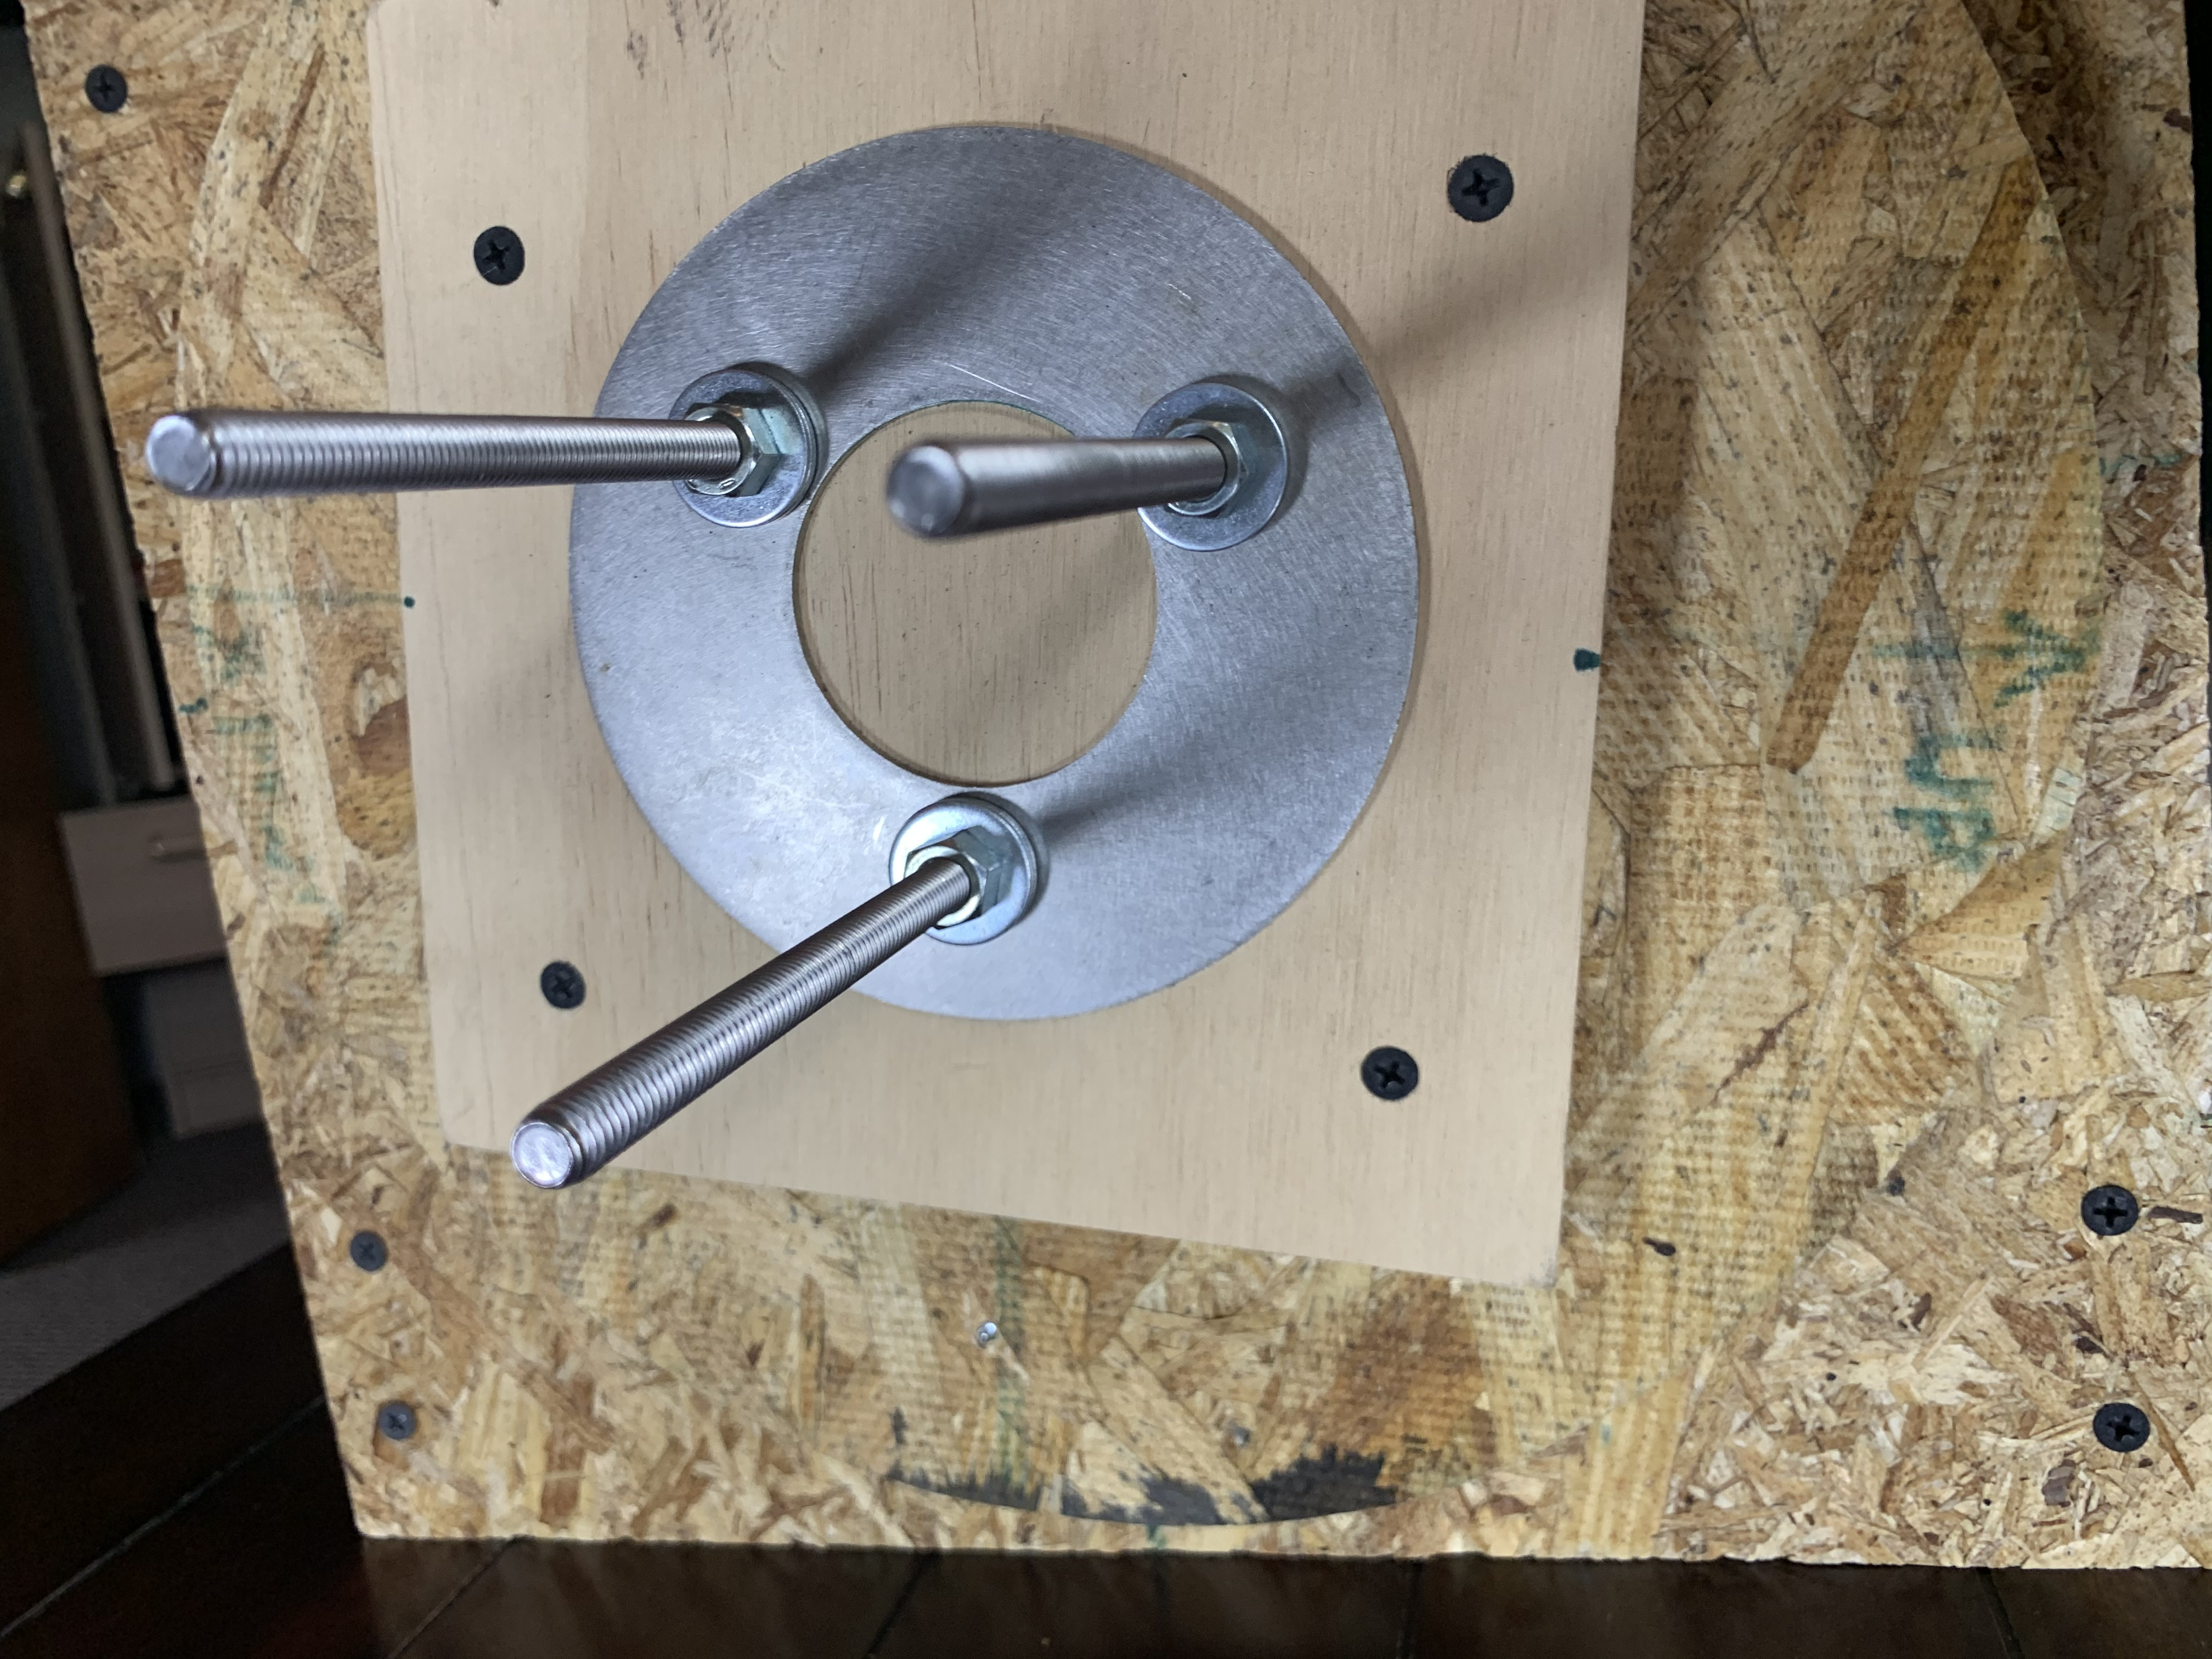bolt: (1127, 369, 1312, 556), (664, 362, 822, 533), (888, 795, 1043, 948)
